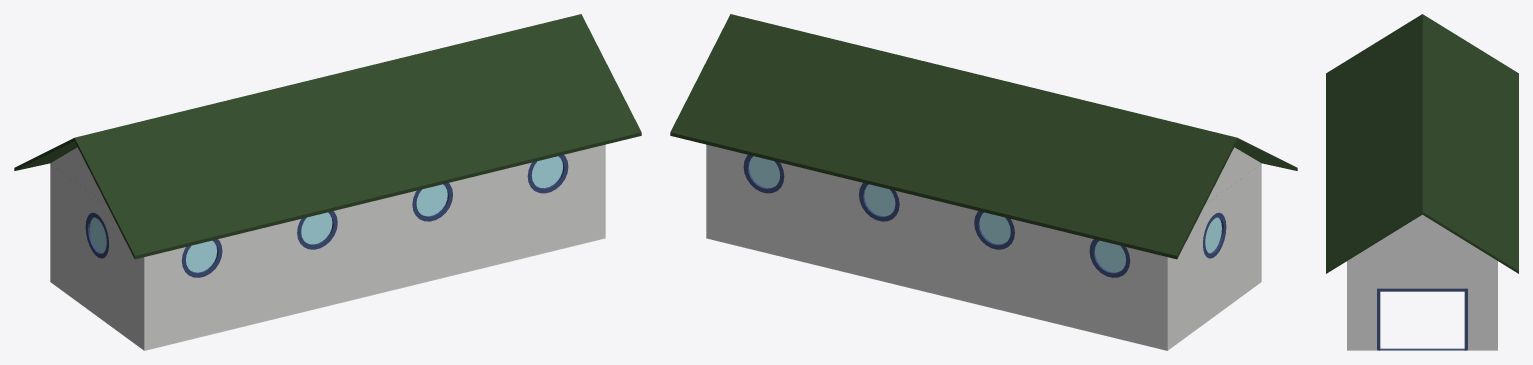
File: hangar.fbx
3 renders of one model, left to right at view 1: azimuth 30°, elevation 25°; view 2: azimuth 150°, elevation 25°; view 3: azimuth 270°, elevation 25°, orthographic. The views are drawn at different scales.
Parts seen in each view (by area): view 1: building_001; view 2: building_001; view 3: building_001.
Boxes of the visible parts, x1,y1,x2,y2 form: building_001: [14, 14, 641, 350]; building_001: [670, 14, 1297, 350]; building_001: [1326, 14, 1518, 350].
Size of the model in its own units: 1243 by 434 by 512.
